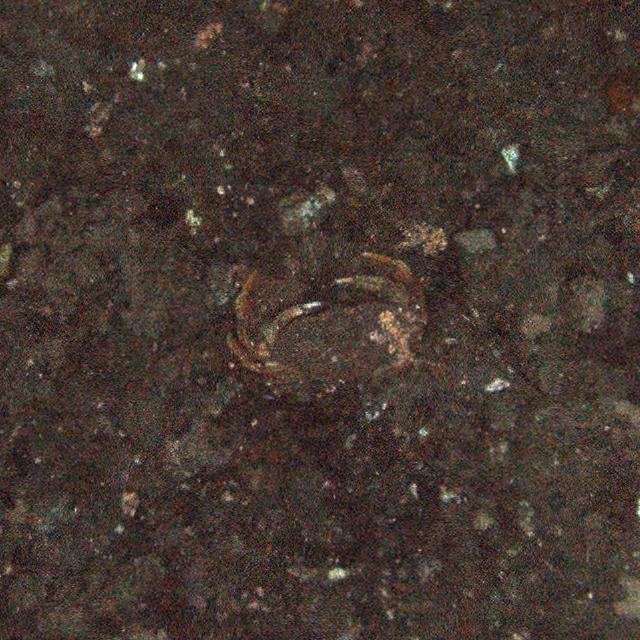crab: (226, 254, 437, 405)
